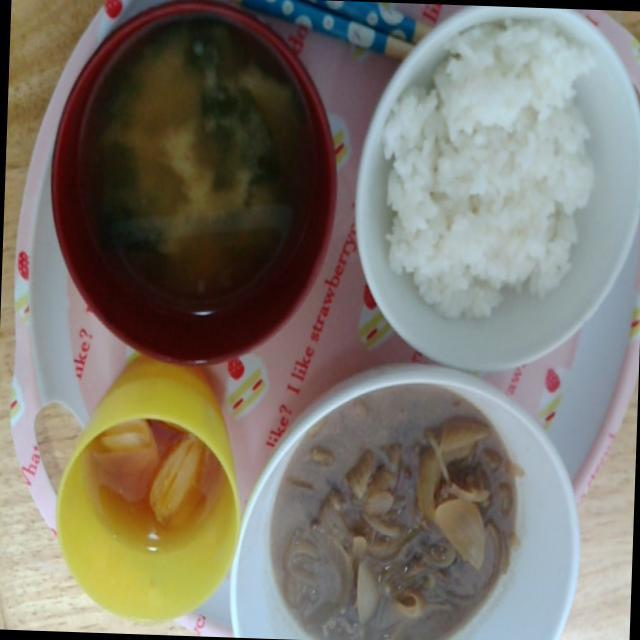Rice: (365, 20, 603, 318)
